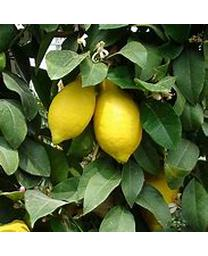lemon: (93, 78, 142, 162), (48, 79, 97, 143)
